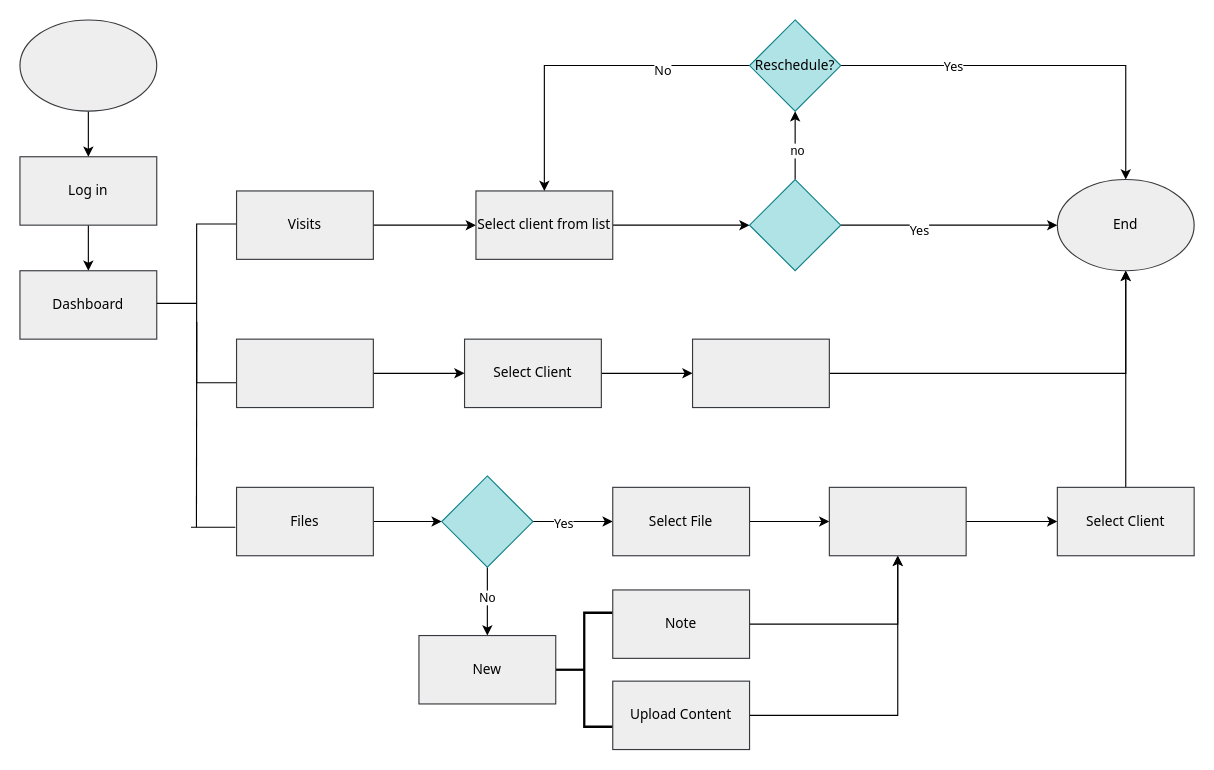
The diagram is 1214 pixels wide and 770 high, and some of its shapes have lost their labels. Here are the shapes that lost their labels. From the top down, the centre of each, then its label:
At pixel 88 65: "Landing Page".
At pixel 794 224: "Start Visit?".
At pixel 304 373: "Client List".
At pixel 760 373: "Medical Records".
At pixel 487 521: "File Exists?".
At pixel 897 521: "Assign to client".
